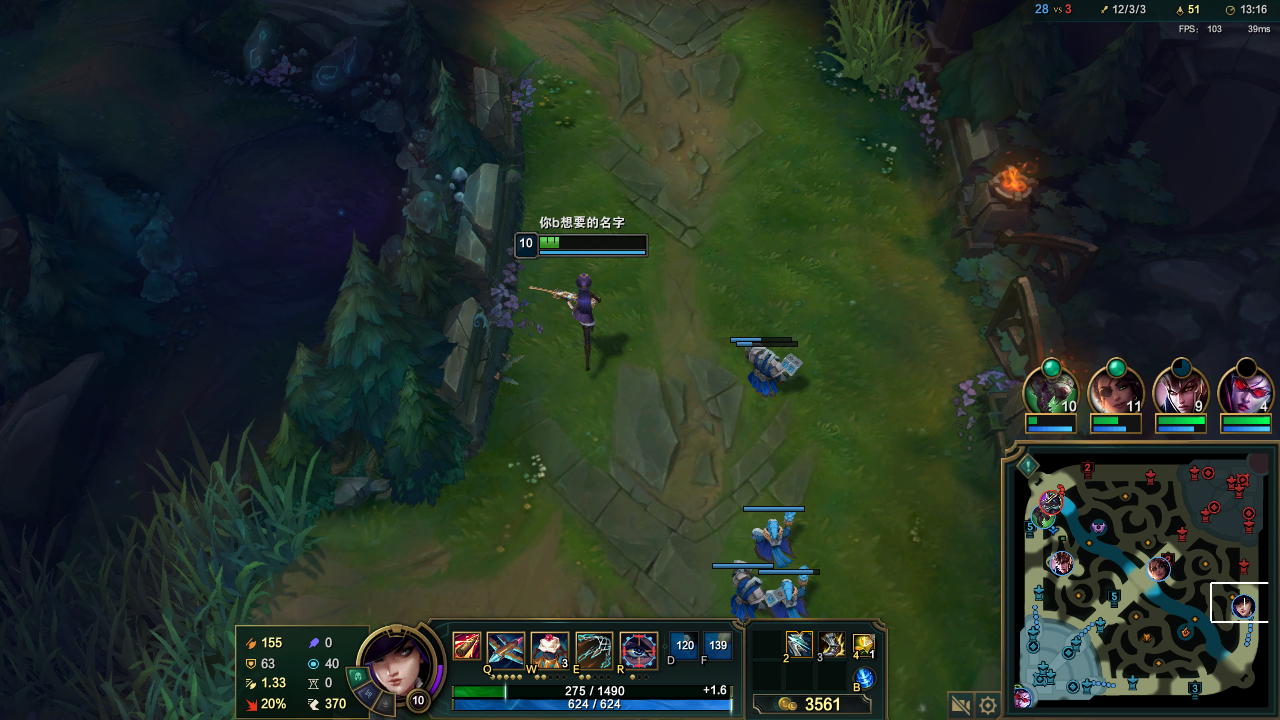KF: (787, 634, 808, 646)
WFXB: (755, 512, 794, 558), (761, 355, 808, 392), (772, 568, 811, 611), (727, 571, 762, 610), (744, 341, 770, 381)
